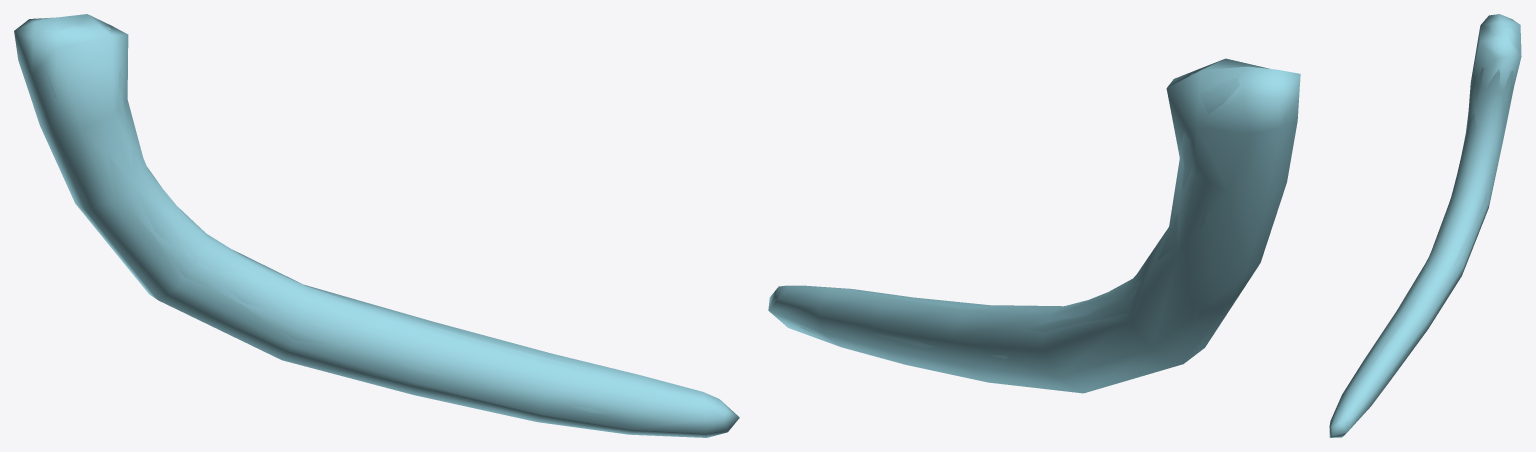
3 views of the same model, side by side, from view 1: azimuth 30°, elevation 25°; view 2: azimuth 150°, elevation 25°; view 3: azimuth 270°, elevation 25° (orthographic). The views are drawn at different scales.
Visible parts, largest first — view 1: CC R4 low, CC R4; view 2: CC R4 low, CC R4; view 3: CC R4 low, CC R4.
Boxes of the visible parts, x1=… form: CC R4 low: x1=14, y1=14, x2=739, y2=437; CC R4: x1=45, y1=24, x2=715, y2=413; CC R4 low: x1=768, y1=58, x2=1300, y2=393; CC R4: x1=776, y1=67, x2=1239, y2=358; CC R4 low: x1=1329, y1=14, x2=1521, y2=437; CC R4: x1=1337, y1=19, x2=1516, y2=424.
Size of the model in its own units: 2.06 by 1.52 by 0.9921.
